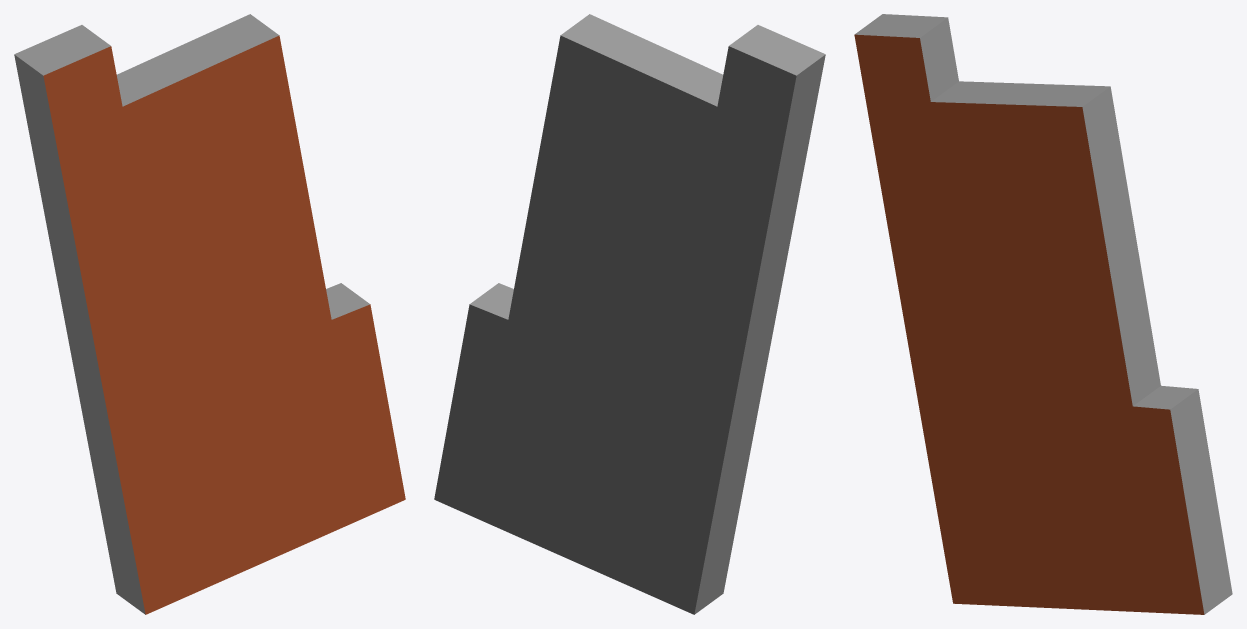
The model's file is construction_2669_assumed_A_Casa_h6m.obj.
The picture shows the model from 3 angles, left to right: view 1: azimuth 30°, elevation 25°; view 2: azimuth 150°, elevation 25°; view 3: azimuth 330°, elevation 25°; orthographic projection. The views are drawn at different scales.
Visible parts, largest first — view 1: construction_2669_assumed_A_Casa; view 2: construction_2669_assumed_A_Casa; view 3: construction_2669_assumed_A_Casa.
Part boxes in pixels (x1,y1,x2,y2): construction_2669_assumed_A_Casa: (14, 14, 405, 614); construction_2669_assumed_A_Casa: (434, 14, 825, 614); construction_2669_assumed_A_Casa: (854, 14, 1232, 614).
Bounding box in the file's own units: 42.95 × 65.38 × 6.
